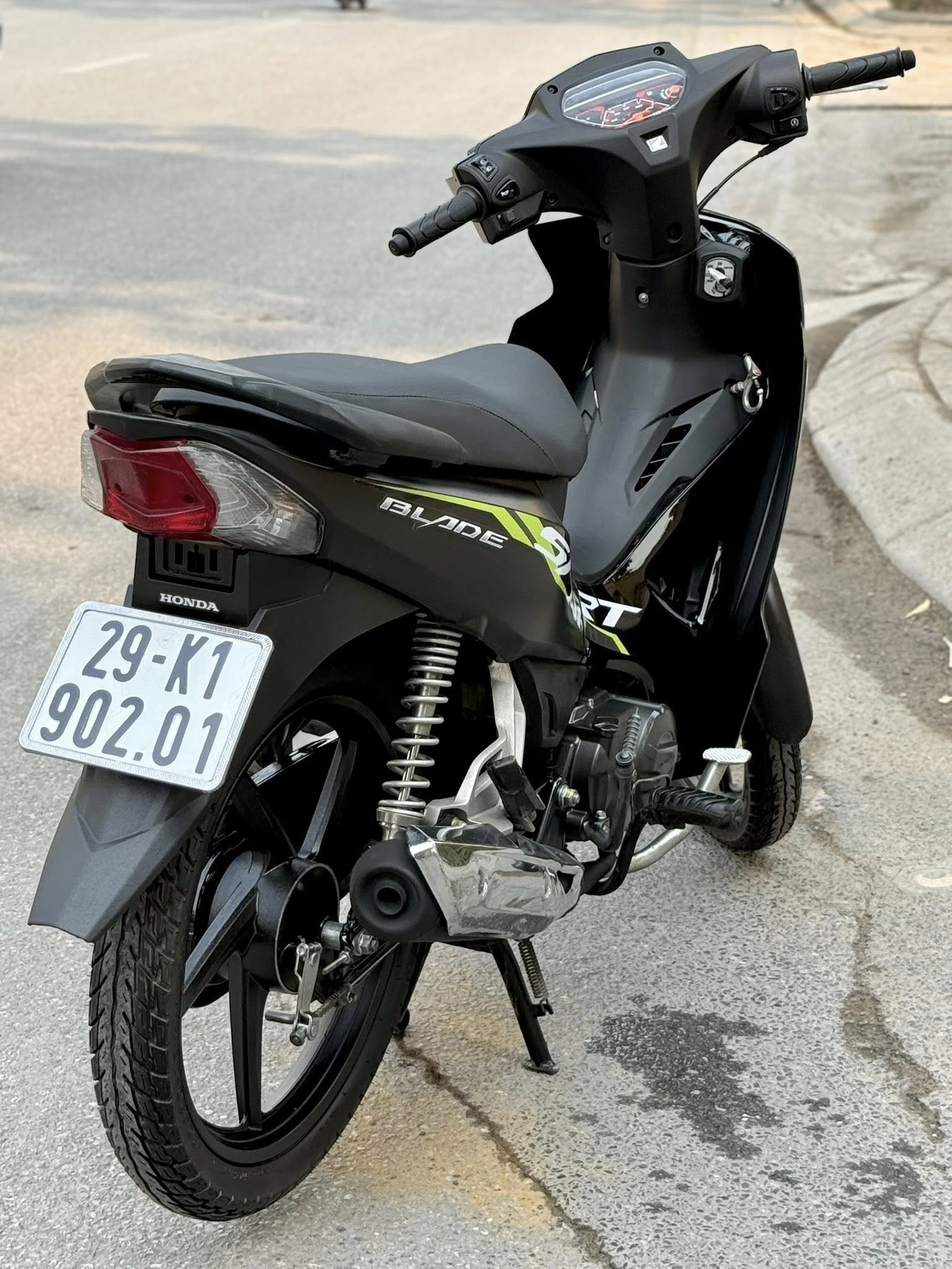bien_so: (9, 591, 285, 798)
